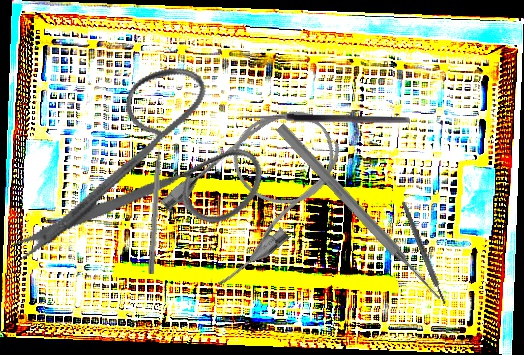Cannula: (152, 88, 364, 293)
Hook Surgical: (235, 112, 411, 133)
Iris Scissors: (6, 33, 289, 332)
Pusher: (273, 121, 446, 305), (147, 131, 166, 275)
Scalpel Handle: (400, 199, 448, 307)
